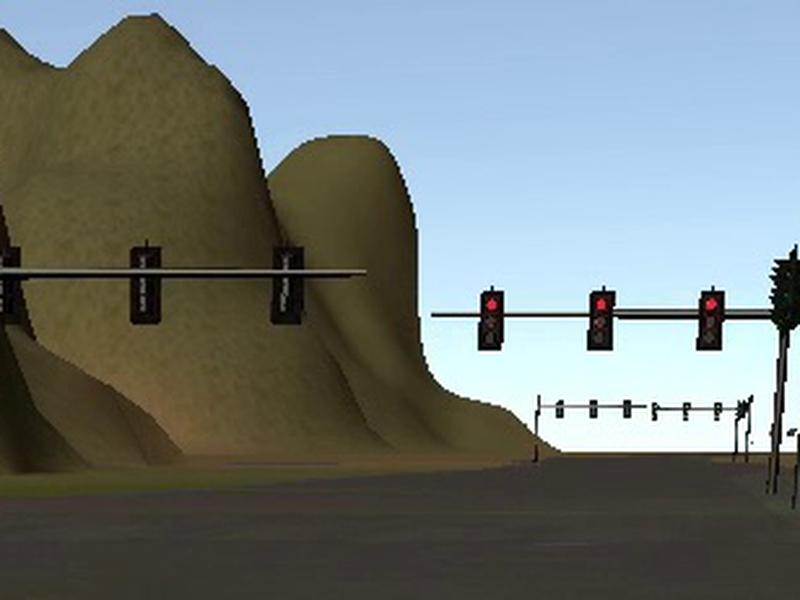Red: (695, 289, 725, 351), (586, 291, 616, 350), (478, 290, 504, 349)
